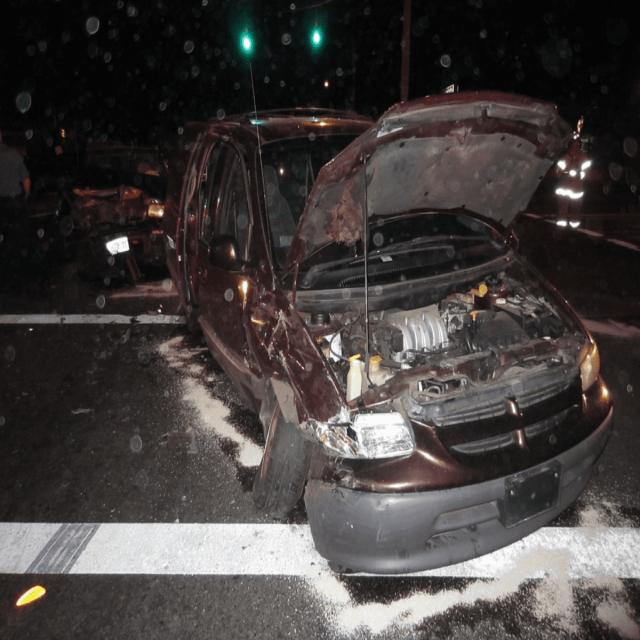accident: (164, 93, 612, 573)
